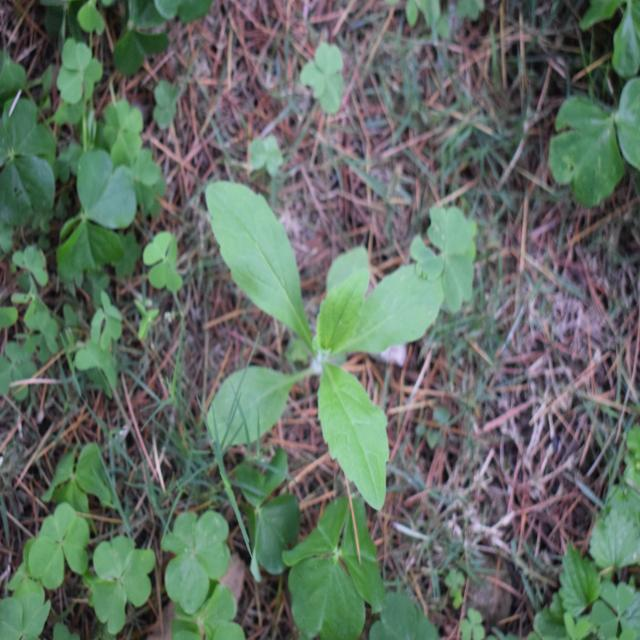horseweed: (202, 173, 444, 482)
